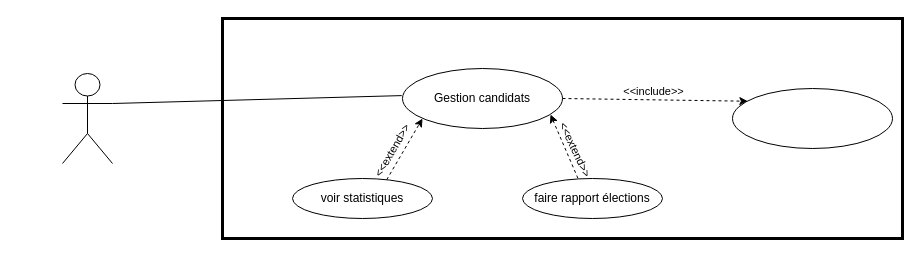
Image size: 921x257. Some labels were removed from this diagram. The shapes that lost their labels are listed below. From the top down, each one's centre as x and y in pixels, then its label:
the point at 87,118: Gestionnaire Bureau de vote
the point at 812,118: authentification
